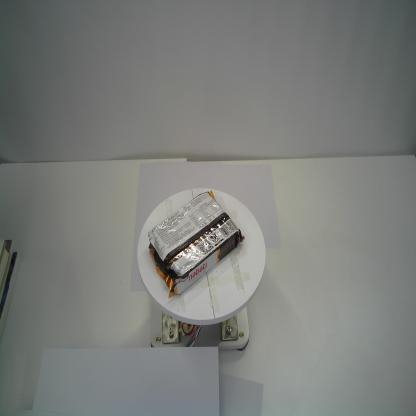Dessert: (147, 190, 245, 300)
